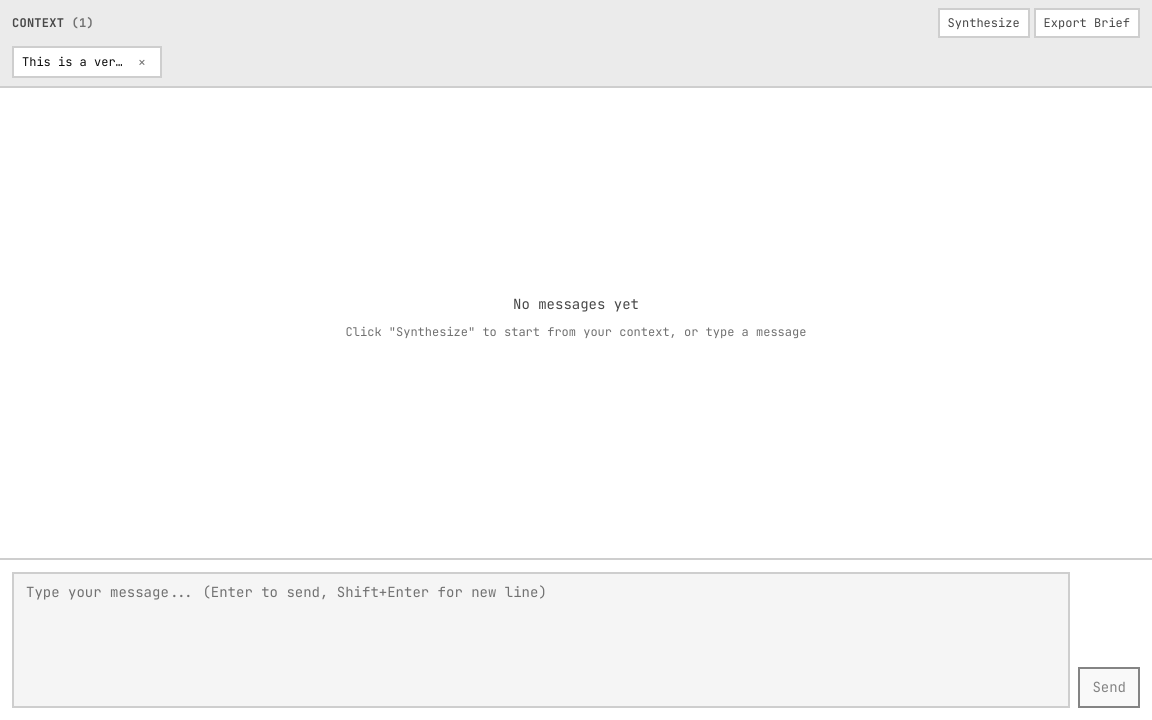
it: ProbeChat behavior › handles non-Error export failures with fallback error messaging
The image size is (1152, 720).
Replace the text in the text box with placeholder "Type your message" with "Direction for brief" at (541, 640), box left=12, top=572, right=1070, bottom=708
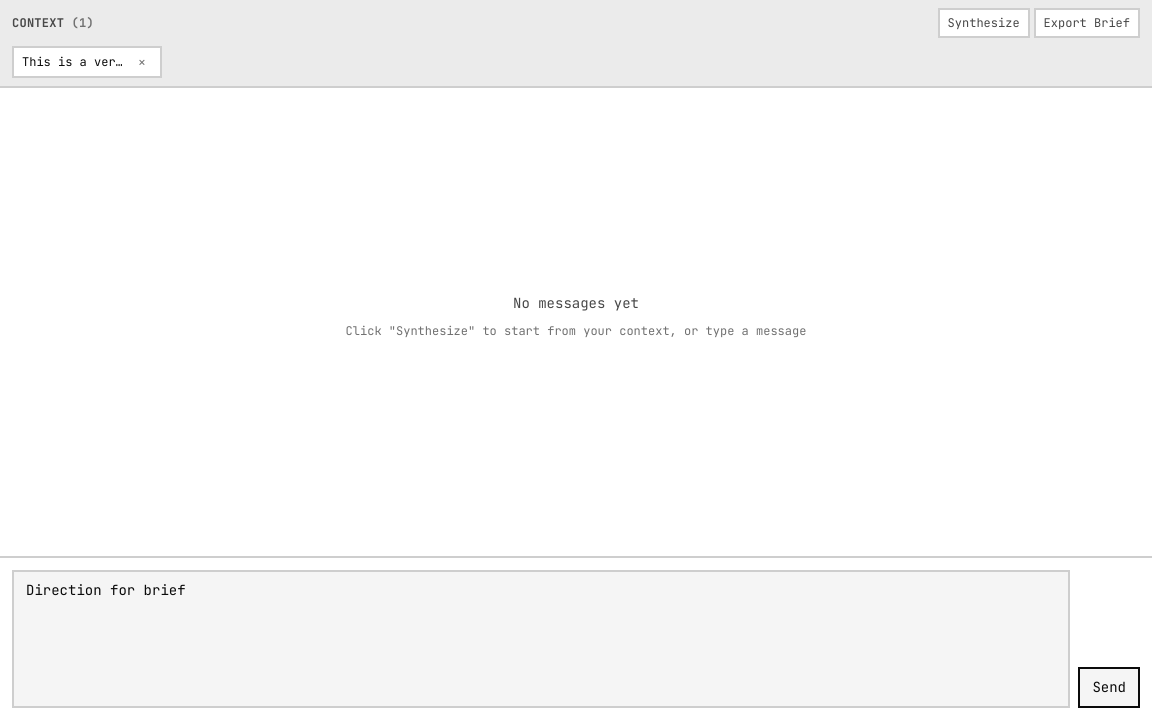
Click the button "Export Brief".
click(1087, 23)  # box left=1034, top=8, right=1140, bottom=38
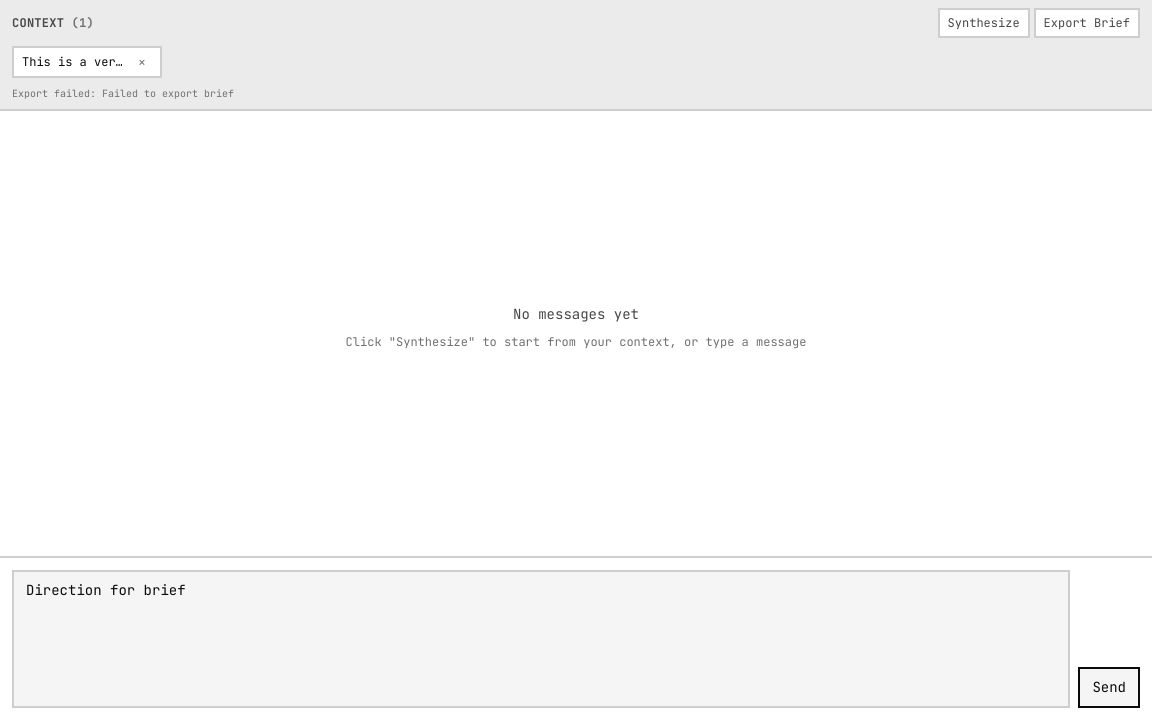
Expected: the text "Export failed: Failed to export brief" is shown, left=12, top=87, right=234, bottom=100
